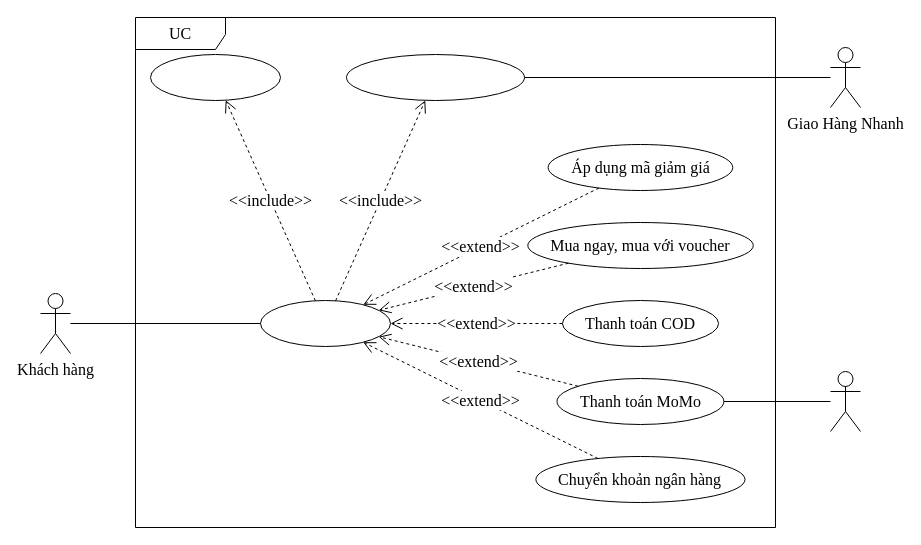
This 921x545 diagram has some shape labels left out. Here are the shapes that lost their labels. From the top down, the centre of each, then its label:
At (x=215, y=77): "Đăng nhập".
At (x=435, y=77): "Tính phí vận chuyển".
At (x=325, y=323): "Đặt hàng".
At (x=845, y=401): "MoMo".
